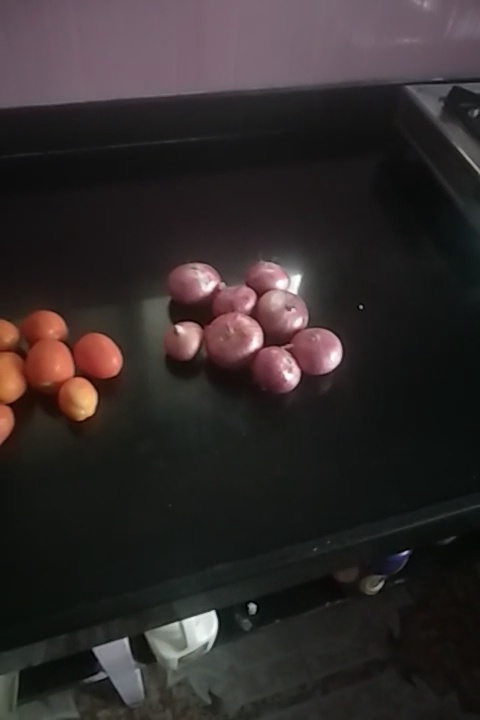onion: (254, 287, 311, 342), (204, 312, 263, 364), (252, 342, 303, 397), (291, 325, 344, 373), (171, 261, 219, 304), (212, 281, 256, 313), (166, 321, 201, 358), (247, 260, 287, 289)
tomato: (24, 336, 81, 385), (69, 335, 124, 383), (53, 377, 104, 419), (20, 309, 69, 345), (1, 351, 33, 400), (1, 399, 25, 442), (1, 317, 29, 351)
